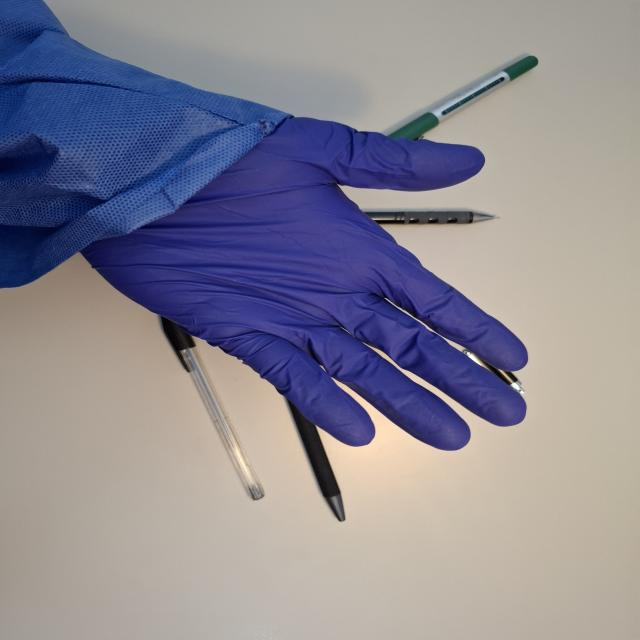glove_on: (66, 109, 532, 452)
